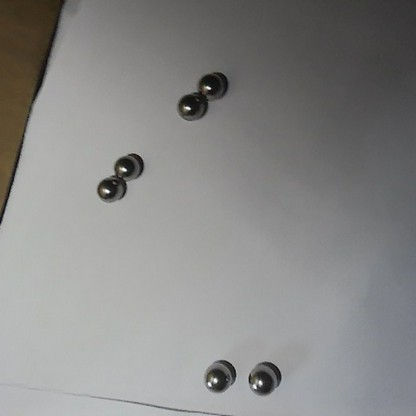ironball: (202, 358, 234, 392), (174, 88, 207, 120), (248, 361, 278, 393), (194, 70, 227, 98), (97, 173, 128, 202), (113, 154, 143, 180)
